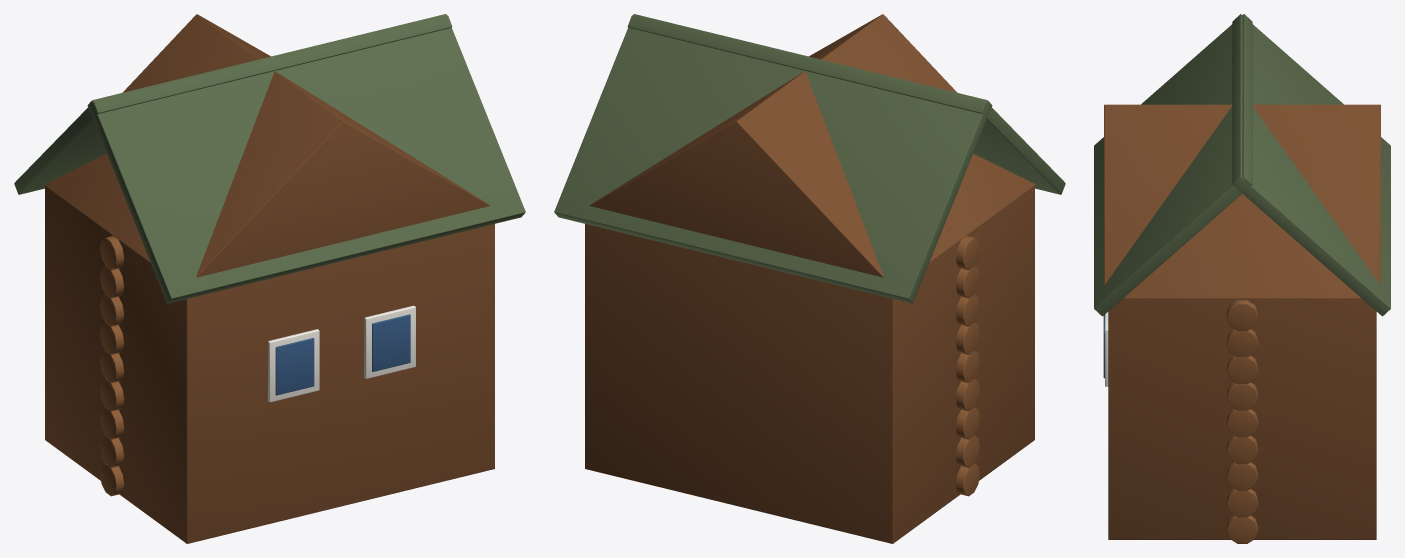
File: rg_russia_2.glb
3 renders of one model, left to right at view 1: azimuth 30°, elevation 25°; view 2: azimuth 150°, elevation 25°; view 3: azimuth 270°, elevation 25°, orthographic. The views are drawn at different scales.
Parts seen in each view (by area): view 1: rg_russia_2; view 2: rg_russia_2; view 3: rg_russia_2.
Boxes of the visible parts, x1,y1,x2,y2 form: rg_russia_2: (14,14,525,543); rg_russia_2: (554,14,1065,543); rg_russia_2: (1094,14,1390,543).
Size of the model in its own units: 9.2 by 9.85 by 7.08.
